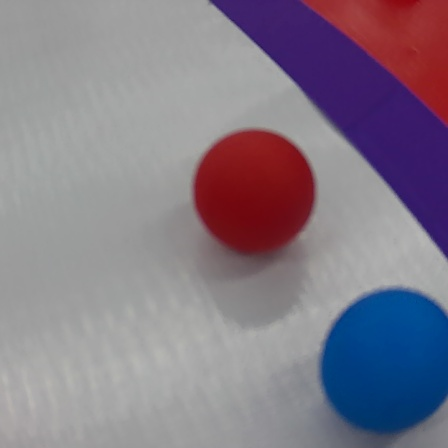blue: (317, 282, 448, 436)
red: (188, 122, 318, 256)
red_aim: (203, 2, 448, 272)
